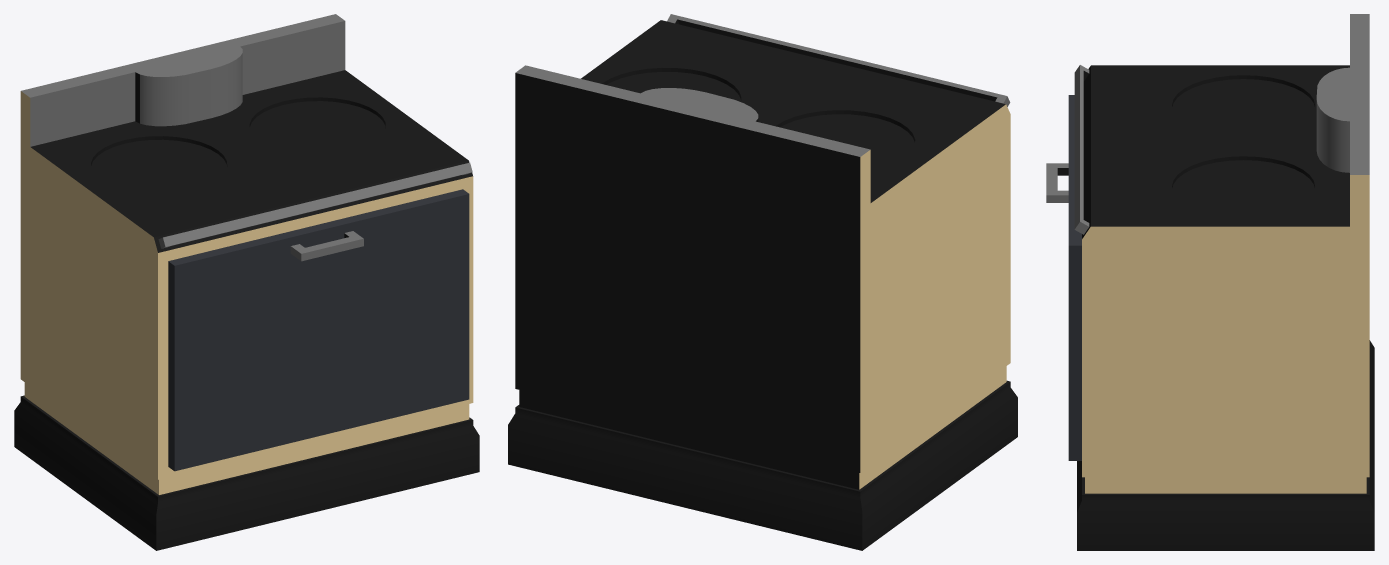
File: oven.fbx
3 renders of one model, left to right at view 1: azimuth 30°, elevation 25°; view 2: azimuth 150°, elevation 25°; view 3: azimuth 270°, elevation 25°, orthographic. The views are drawn at different scales.
Parts seen in each view (by area): view 1: stove; view 2: stove; view 3: stove.
Part boxes in pixels (box(x1,y1,x2,y2)): stove: box(14, 14, 479, 550); stove: box(508, 14, 1017, 550); stove: box(1046, 14, 1374, 550).
Bounding box in the file's own units: 0.718 × 0.7571 × 0.6025.
